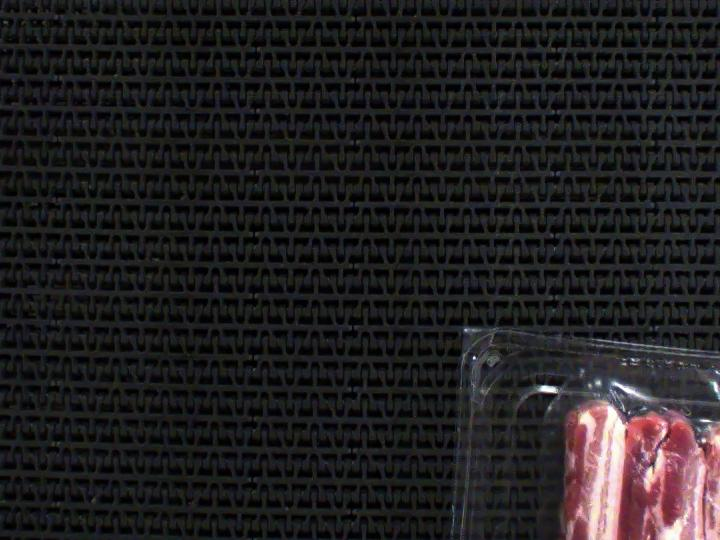unsealed: (540, 340, 720, 540)
